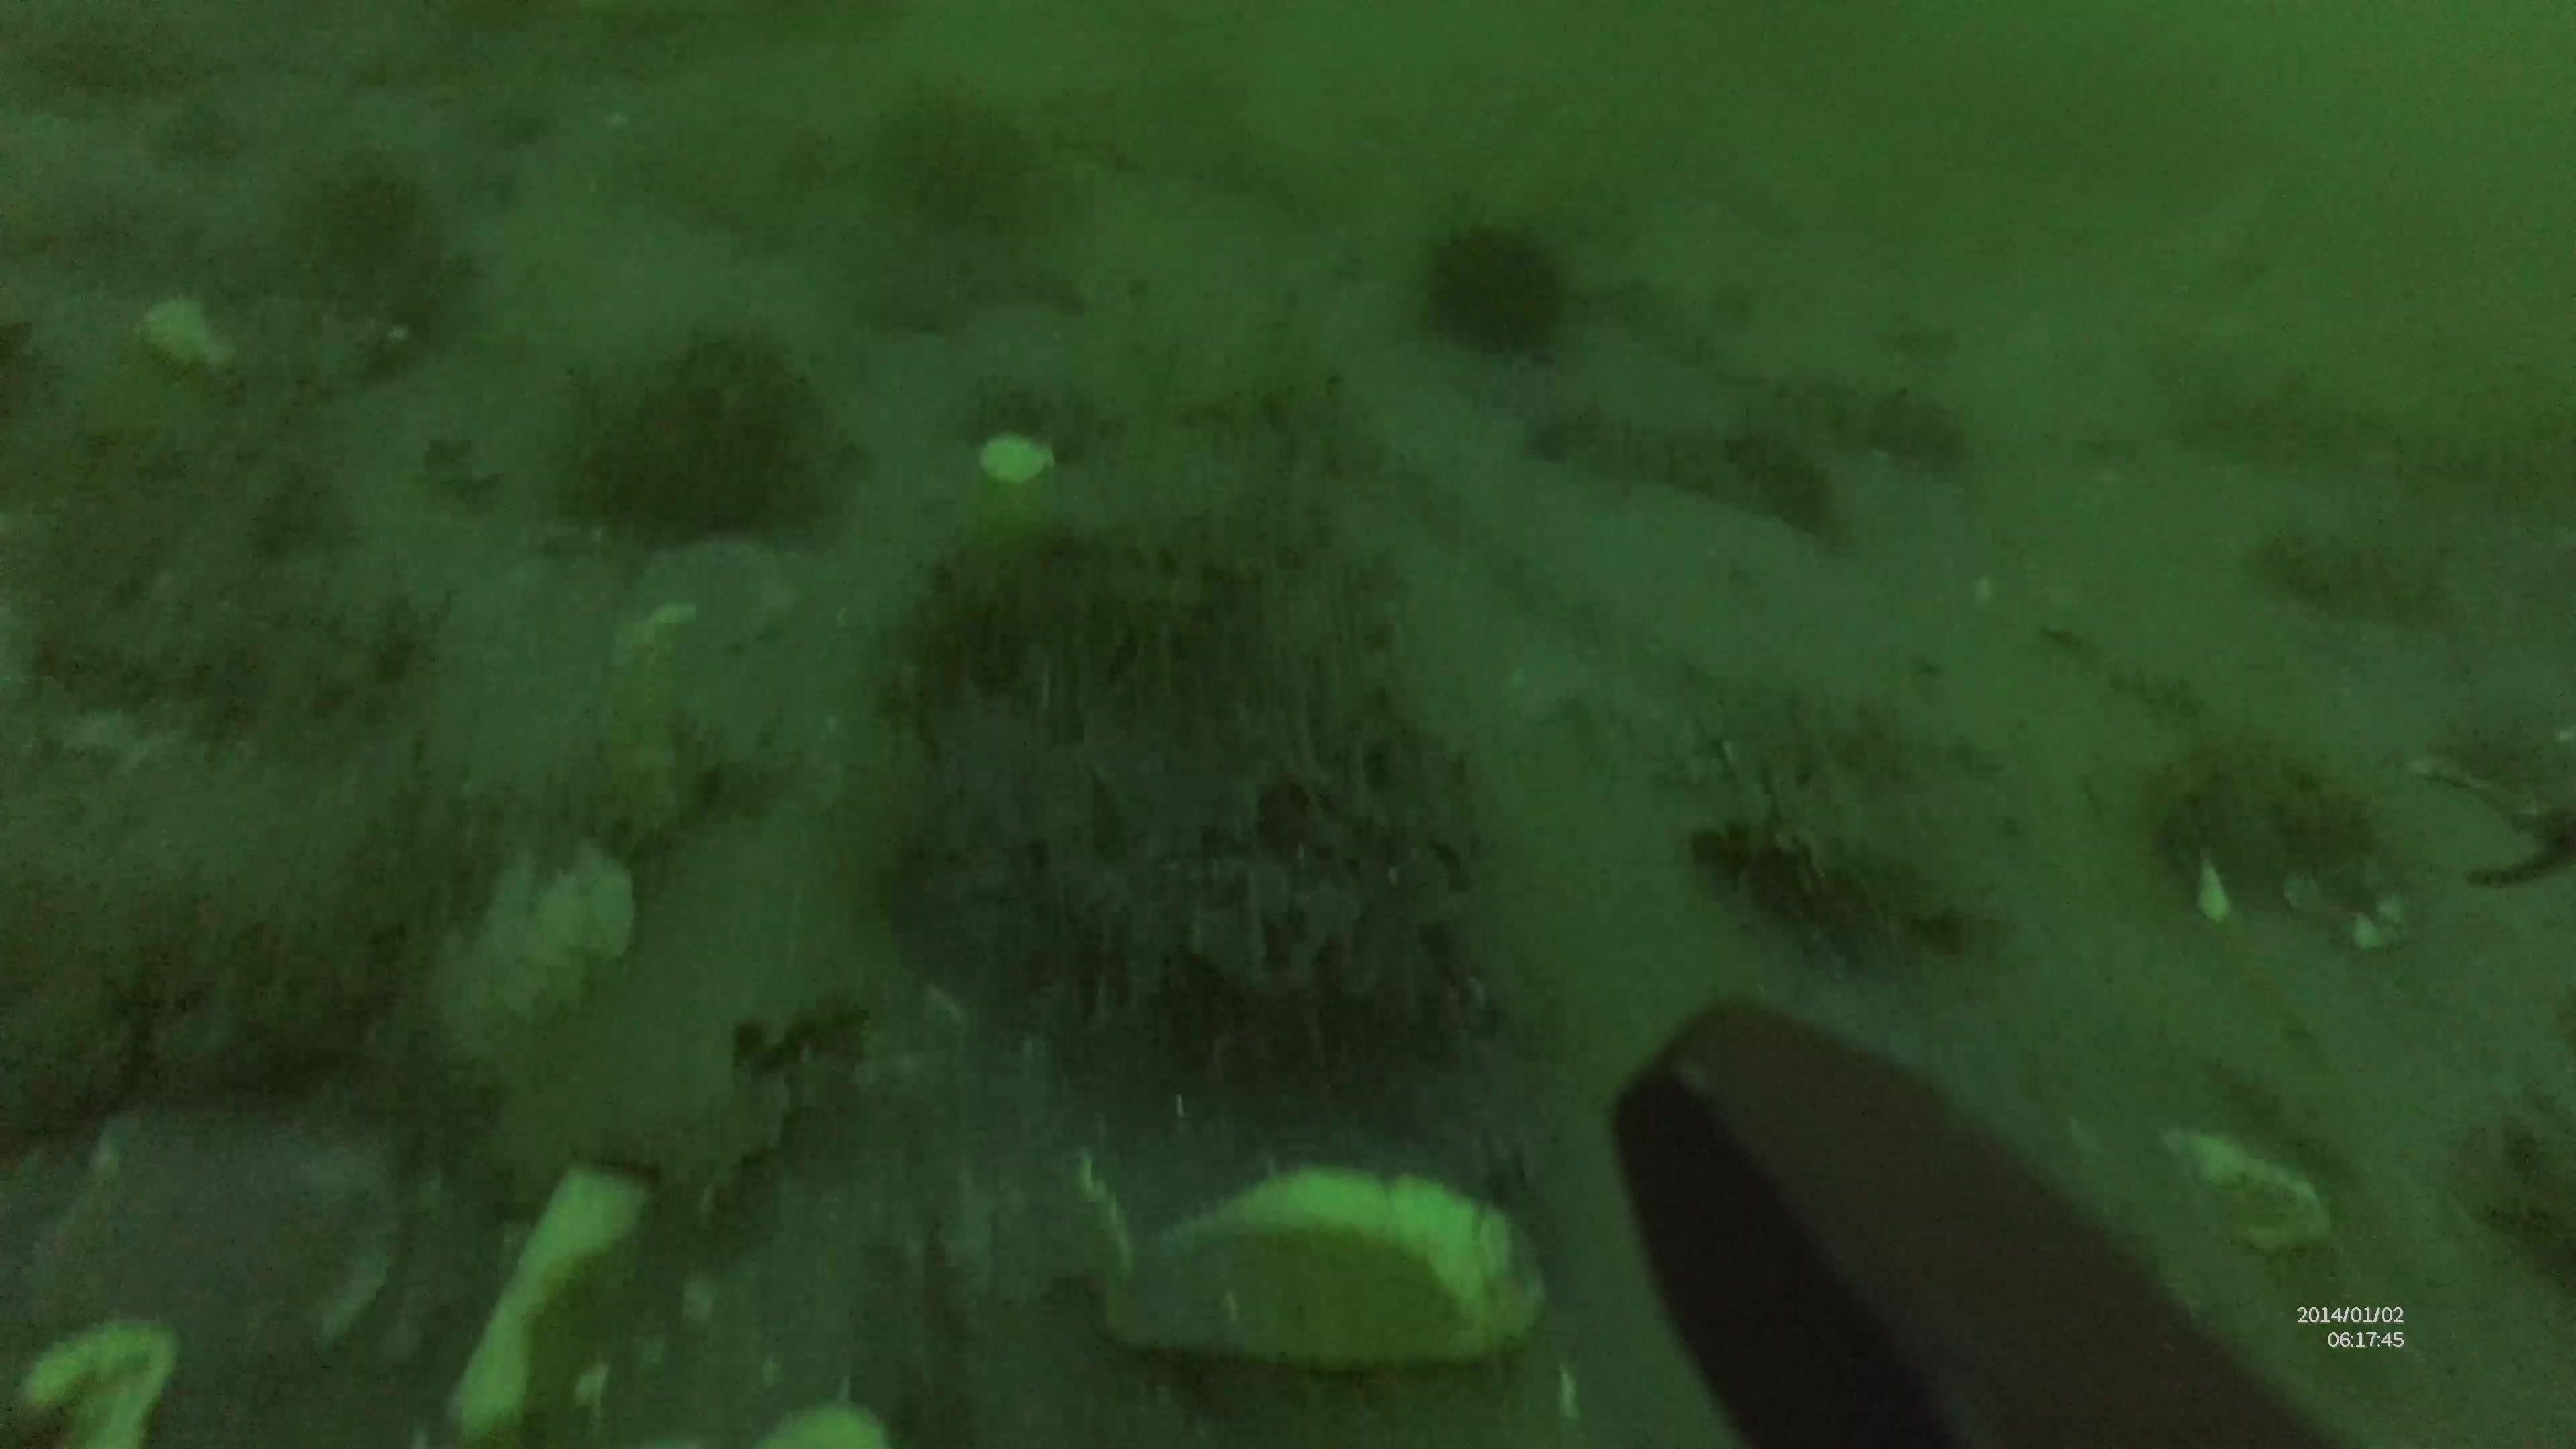echinus: (1431, 219, 1580, 356)
scallop: (1088, 1159, 1557, 1385), (0, 1327, 179, 1449)
